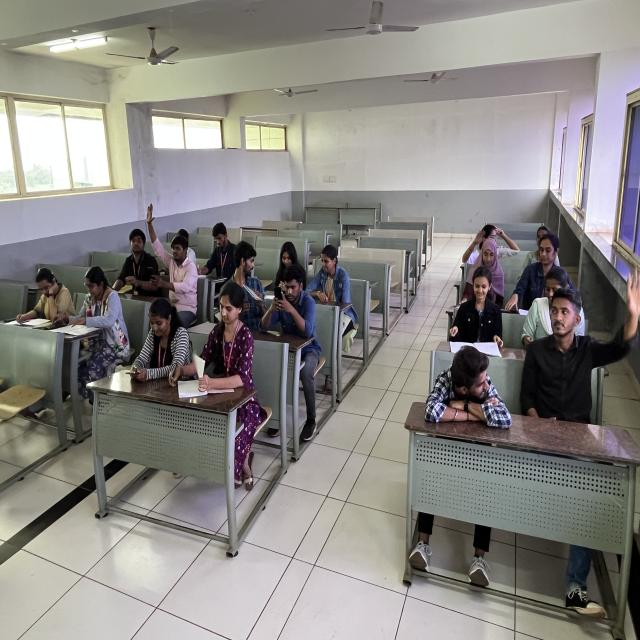Hand Rising: (538, 277, 640, 430), (140, 205, 210, 314)
Reading: (167, 286, 280, 404), (437, 267, 524, 365), (63, 264, 137, 363), (8, 260, 76, 350), (468, 246, 515, 306)
Using Phone: (117, 294, 216, 392), (264, 277, 332, 371)
Writing: (194, 218, 252, 288)
